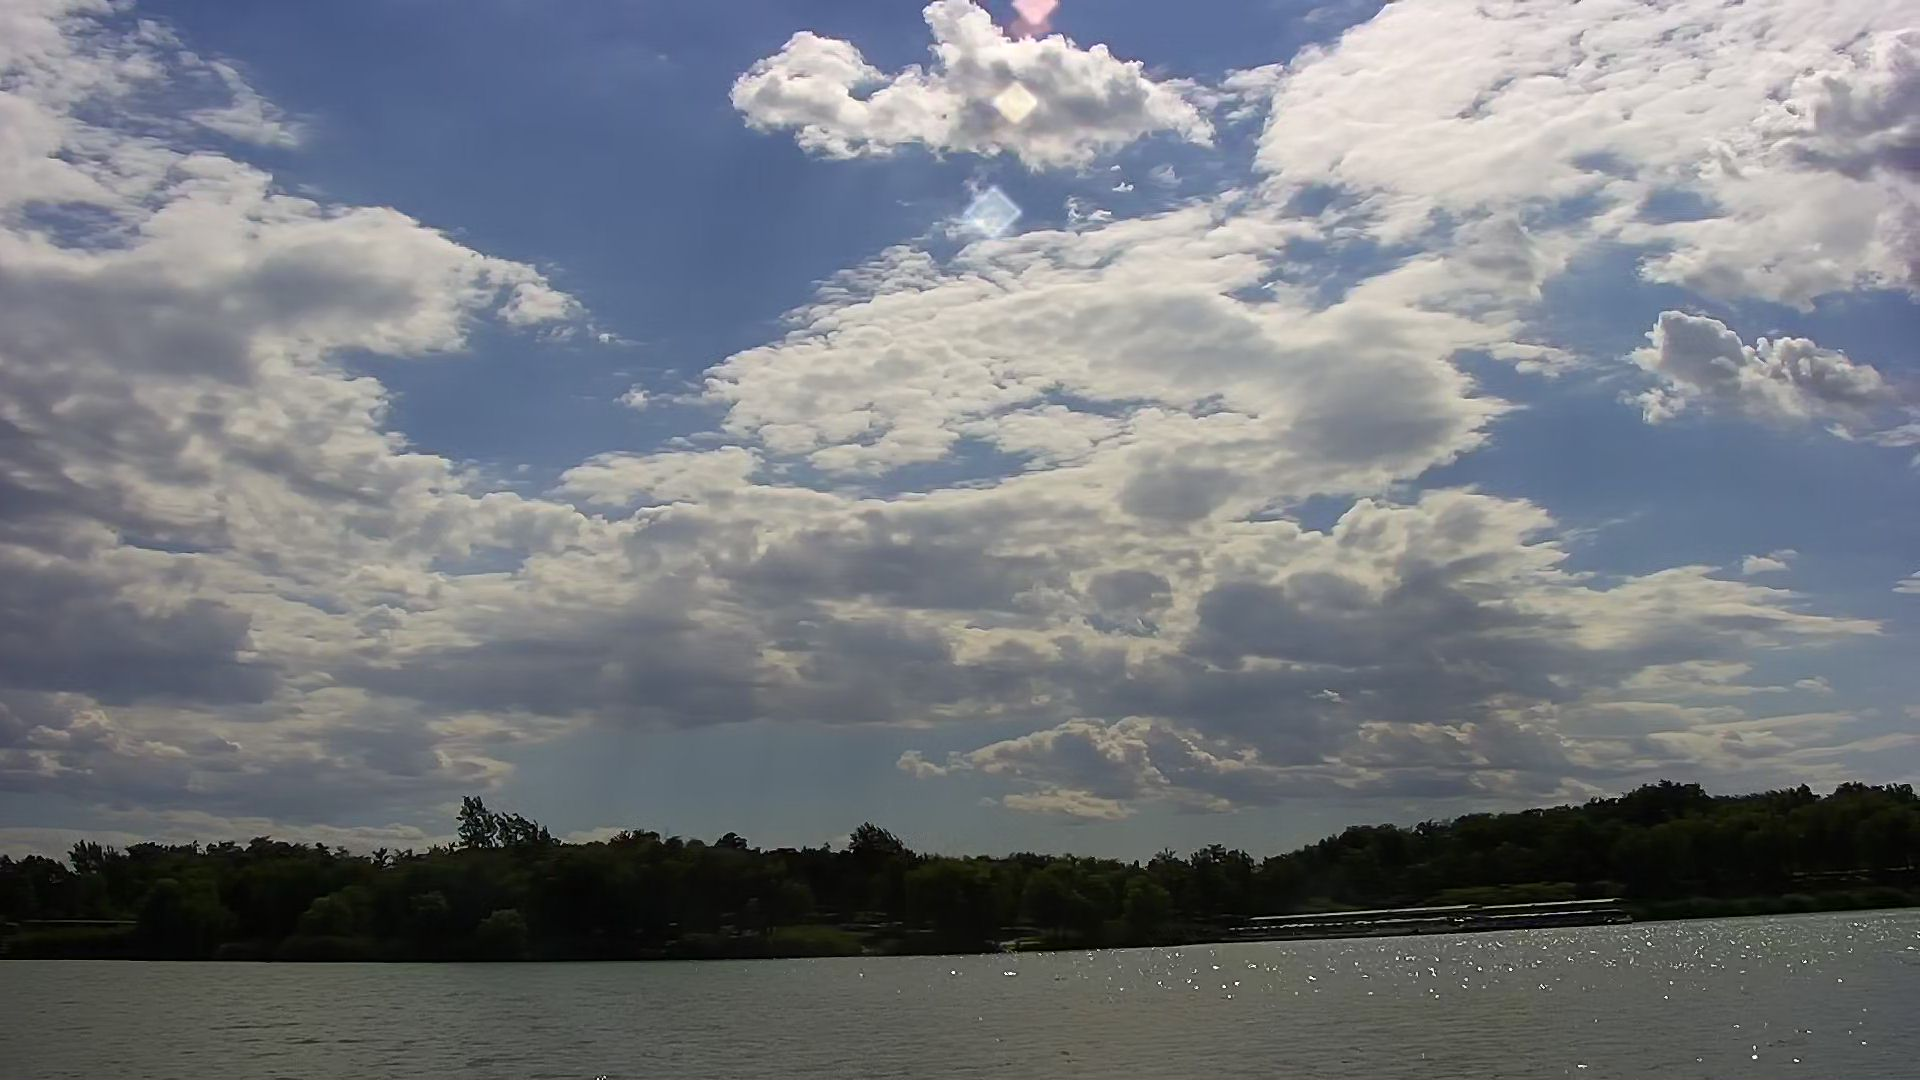harbor: (1215, 890, 1665, 949)
